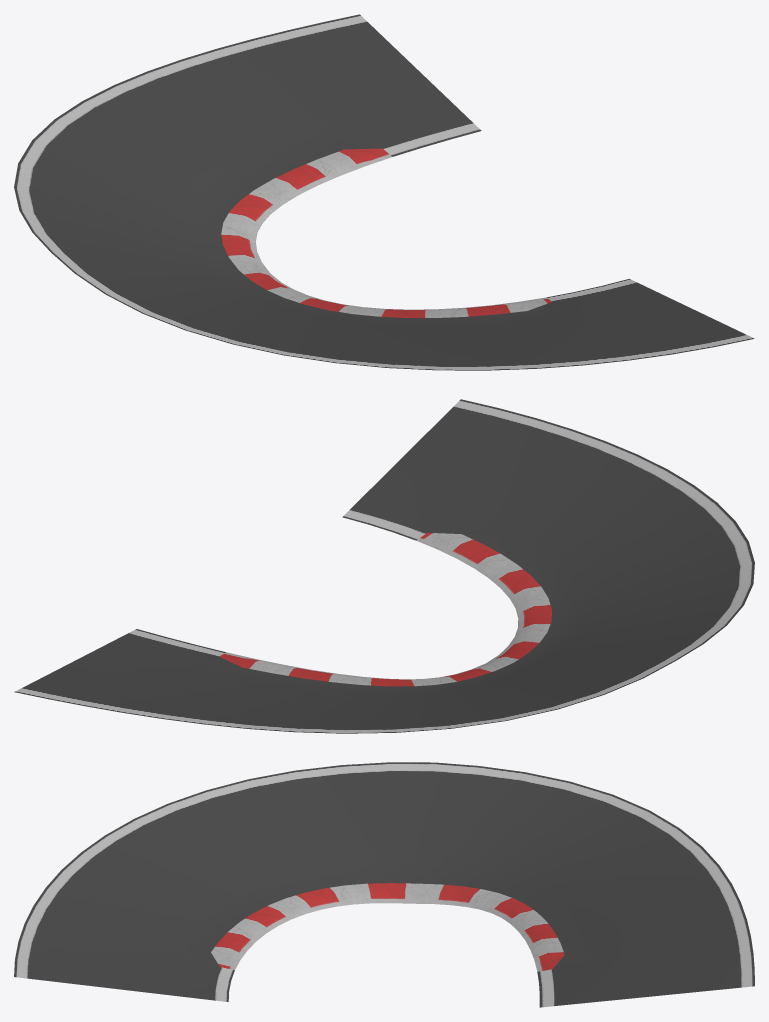
File: sm_road.011.fbx
3 views of the same model, one above another, from view 1: azimuth 30°, elevation 25°; view 2: azimuth 150°, elevation 25°; view 3: azimuth 270°, elevation 25° (orthographic). The views are drawn at different scales.
Visible parts, largest first — view 1: sm_road.016; view 2: sm_road.016; view 3: sm_road.016.
Part boxes in pixels (x1,y1,x2,y2): sm_road.016: (14,14,754,370); sm_road.016: (14,399,754,733); sm_road.016: (14,762,754,1007).
Size of the model in its own units: 33.71 by 4.02 by 50.24.
